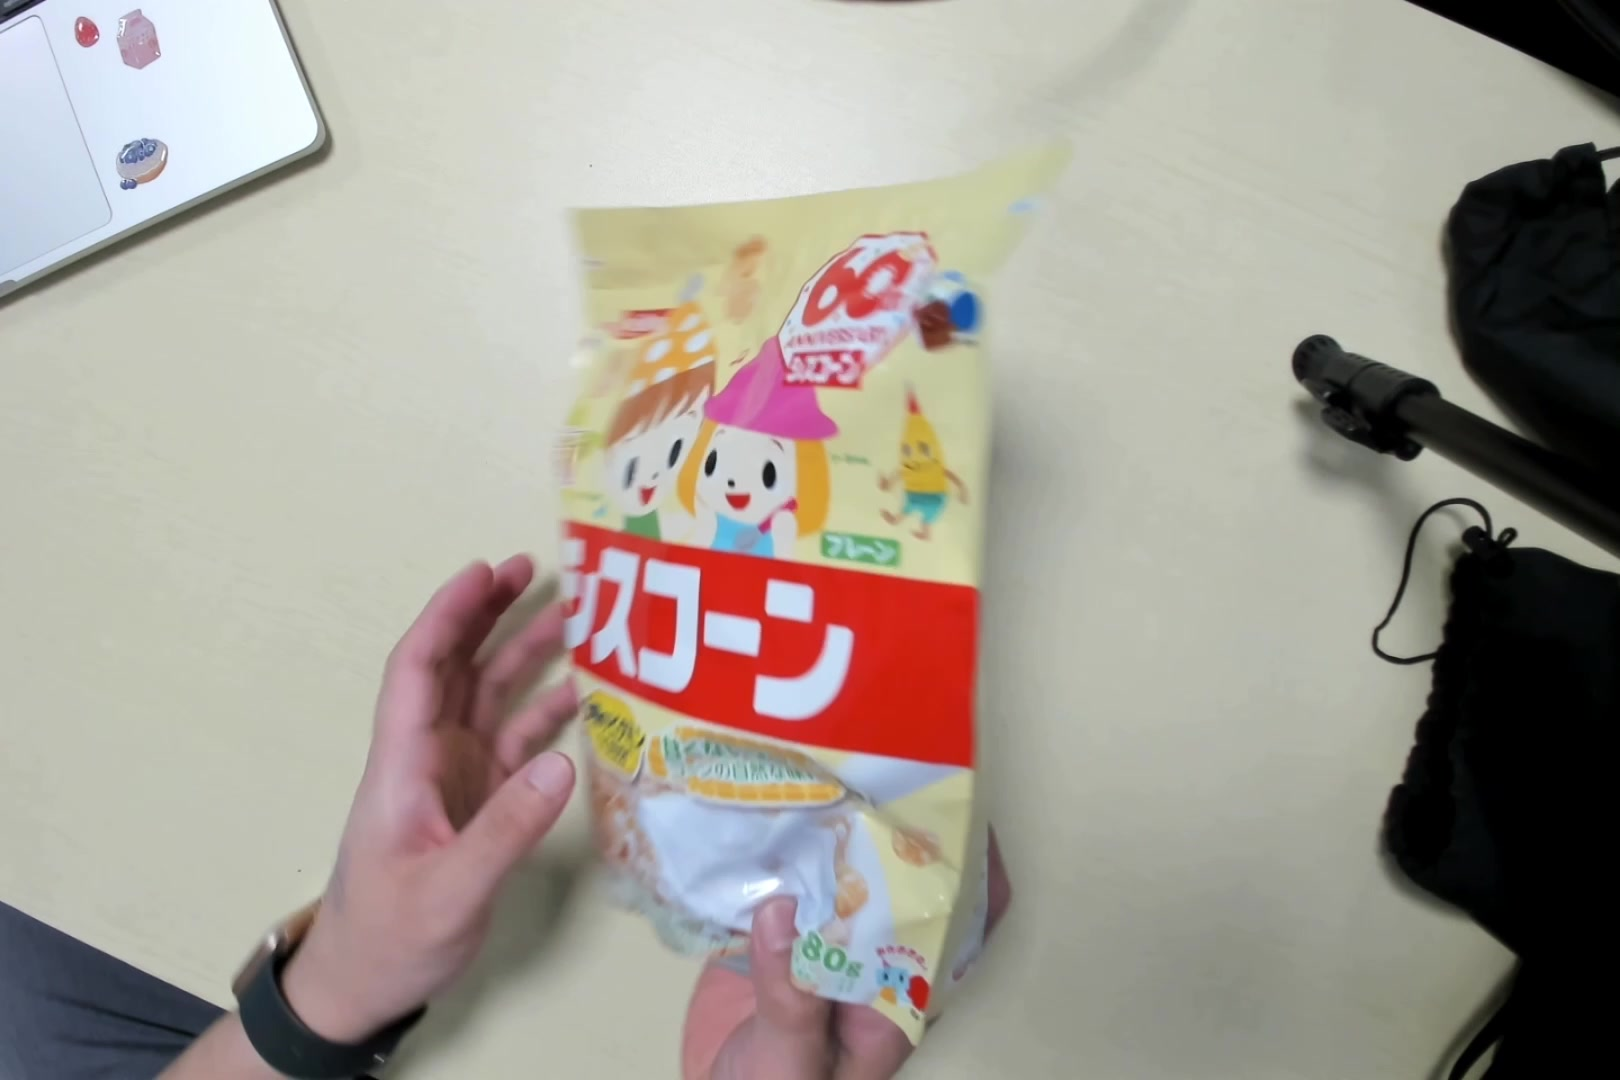BreakfastCereals_100-199g_NonHalal_NonHealthy: (560, 201, 1003, 1006)
